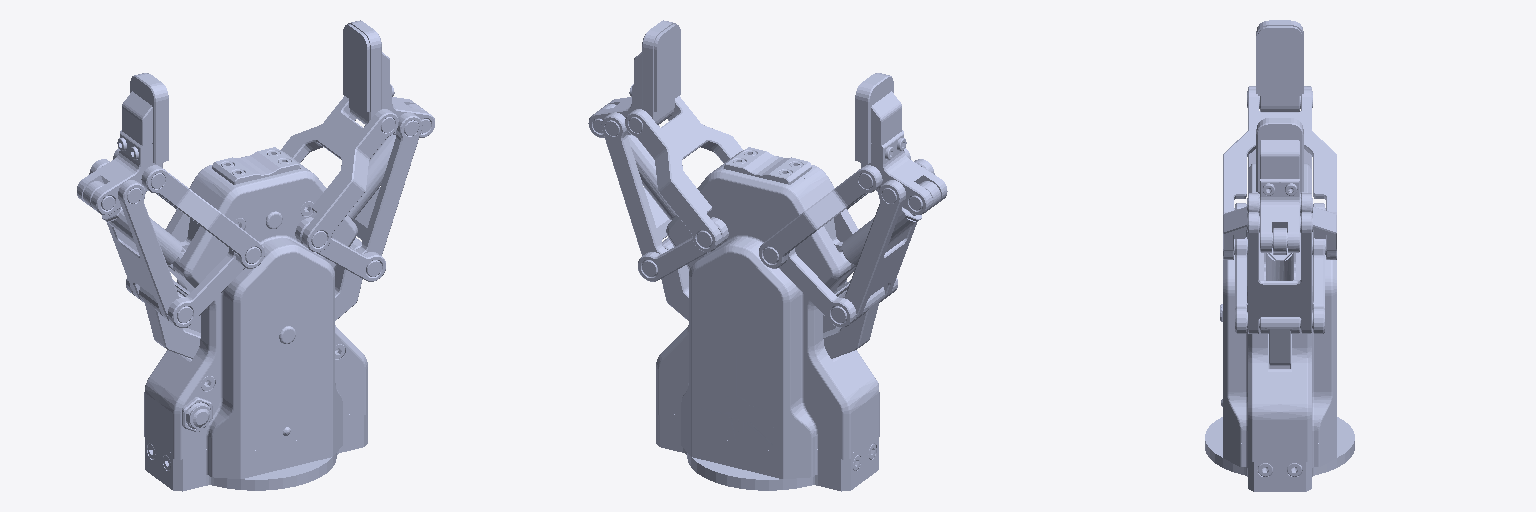
robot.urdf — jxz:
<?xml version="1.0" encoding="utf-8"?>
<!-- This URDF was automatically created by SolidWorks to URDF Exporter! Originally created by [author] ([email redacted]) 
     Commit Version: 1.6.0-4-g7f85cfe  Build Version: 1.6.7995.38578
     For more information, please see http://wiki.ros.org/sw_urdf_exporter -->
<robot
  name="jxz">
  <link
    name="base_link">
    <inertial>
      <origin
        xyz="0.01988 0.073833 0.093085"
        rpy="0 0 0" />
      <mass
        value="0.12717" />
      <inertia
        ixx="3.1189E-05"
        ixy="3.3775E-12"
        ixz="4.9597E-12"
        iyy="4.096E-05"
        iyz="-3.3516E-09"
        izz="3.8569E-05" />
    </inertial>
    <visual>
      <origin
        xyz="0 0 0"
        rpy="0 0 0" />
      <geometry>
        <mesh
          filename="package://jxz/meshes/base_link.STL" />
      </geometry>
      <material
        name="">
        <color
          rgba="0.79216 0.81961 0.93333 1" />
      </material>
    </visual>
    <collision>
      <origin
        xyz="0 0 0"
        rpy="0 0 0" />
      <geometry>
        <mesh
          filename="package://jxz/meshes/base_link.STL" />
      </geometry>
    </collision>
  </link>
</robot>

--- Facts derived from the render (not from the file) ---
3 views of the same robot in one strip: view 1: azimuth 30°, elevation 25°; view 2: azimuth 150°, elevation 25°; view 3: azimuth 270°, elevation 25° (orthographic).
Robot: jxz — 1 links, 0 joints (none); root link base_link; default pose: all joints at 0.
Visible links, largest first — view 1: base_link; view 2: base_link; view 3: base_link.
Link boxes in pixels (x1=…): base_link: x1=77, y1=20, x2=434, y2=491; base_link: x1=588, y1=20, x2=947, y2=491; base_link: x1=1205, y1=20, x2=1354, y2=491.
Size in the robot's own frame: 0.1623 by 0.067 by 0.188 metres.
Meshes: 1 distinct files referenced, 1 mesh visuals loaded (1 binary STL).
